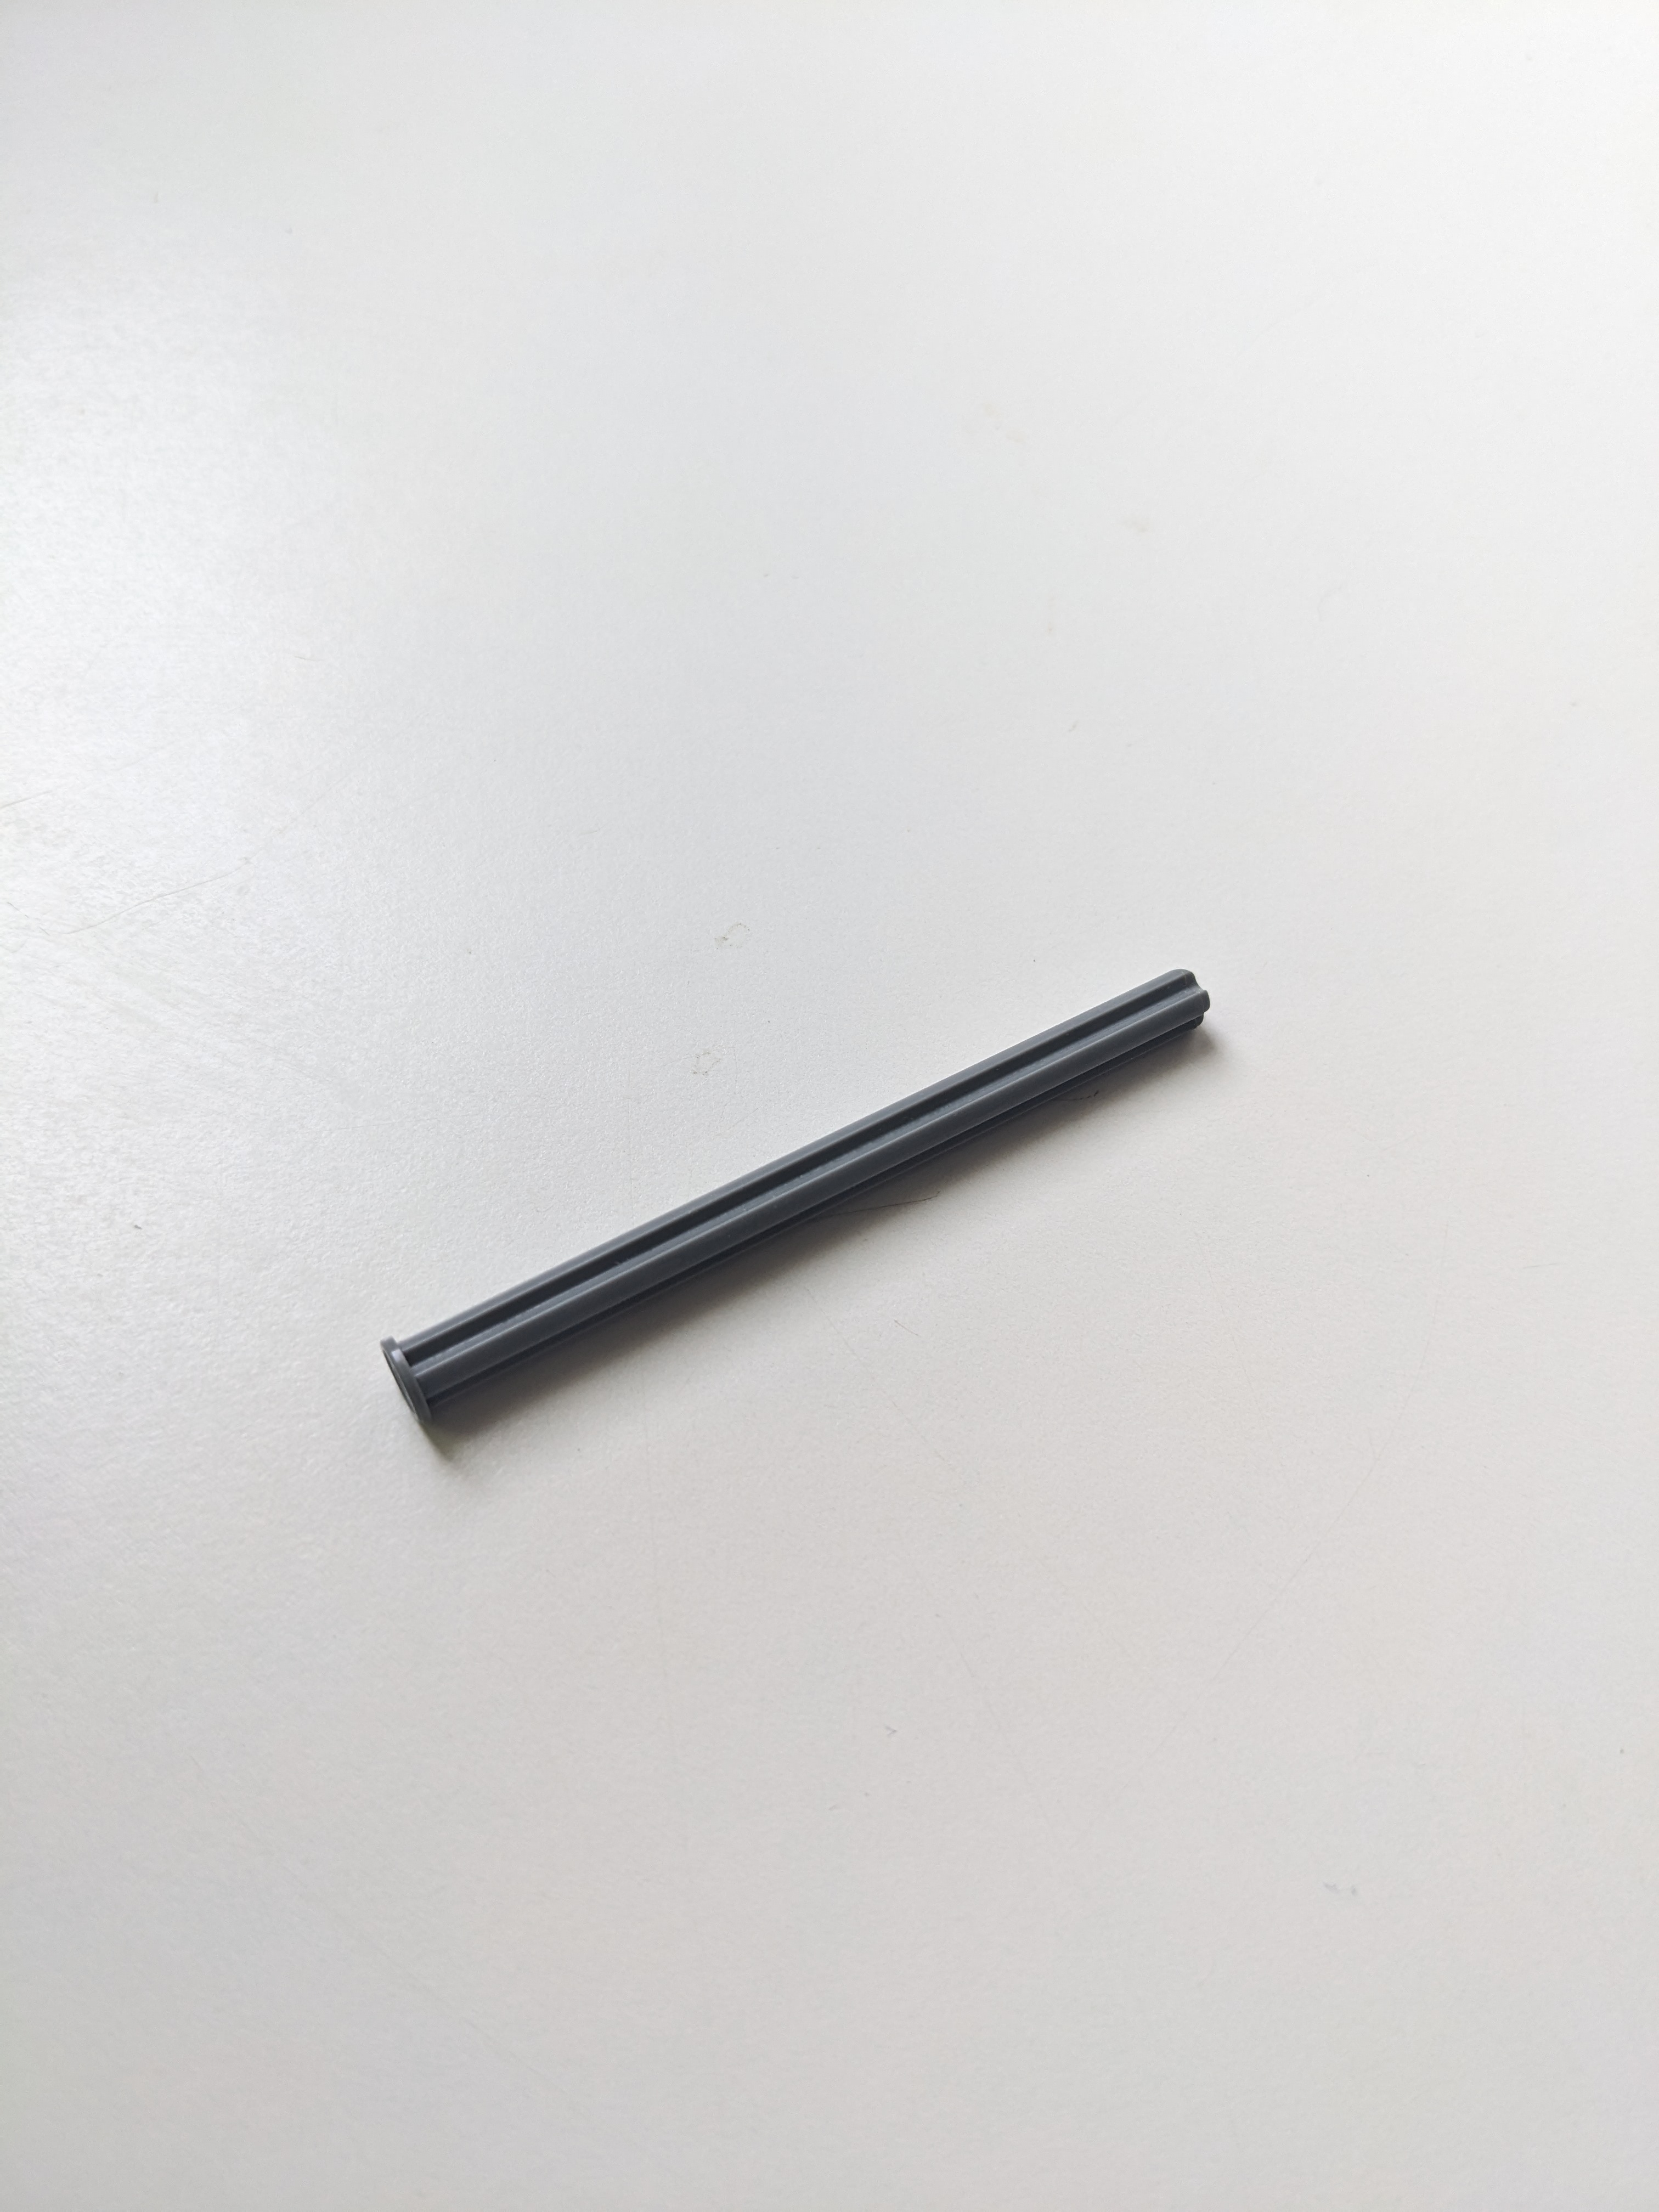Grau_lang: (345, 951, 1234, 1456)
